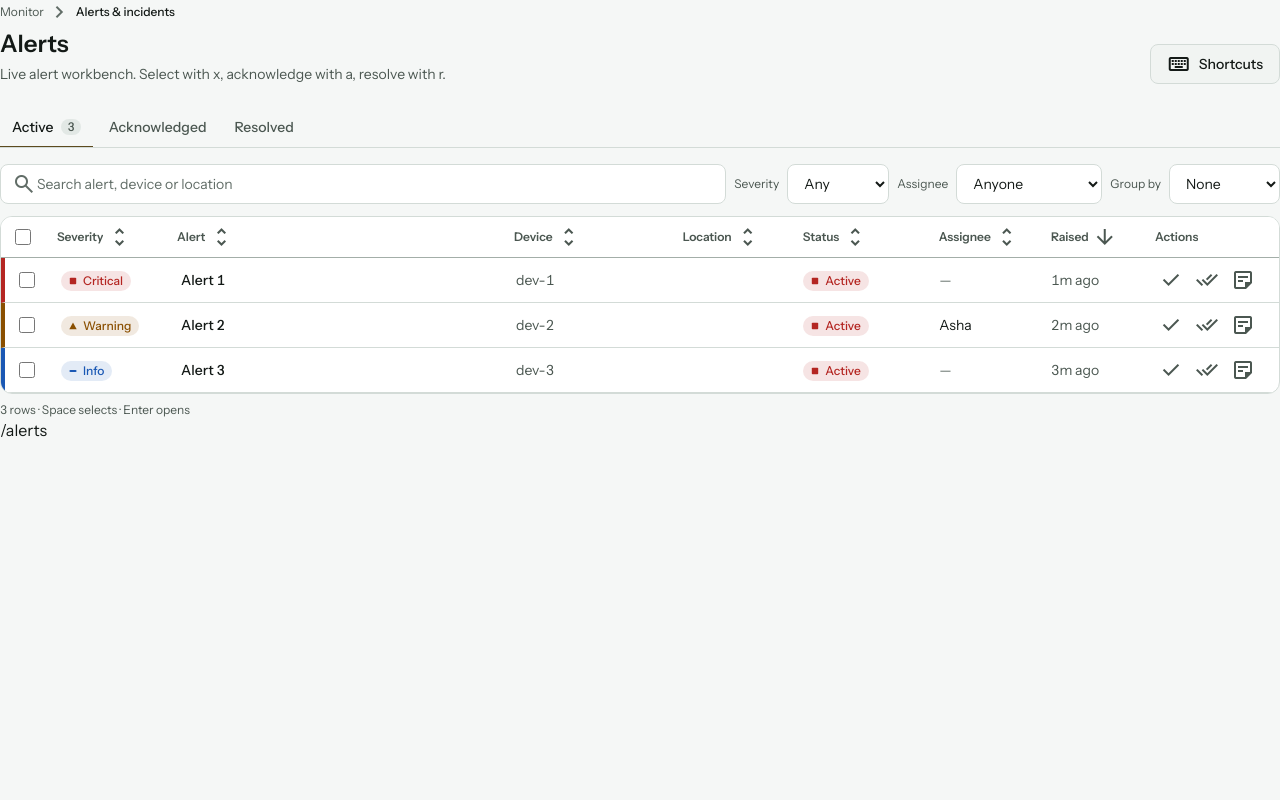
Scenario: Alerts workbench › opens notes with n and posts a note
expect the table named "Active alerts" is shown: met, box left=0, top=216, right=1279, bottom=394
Press j
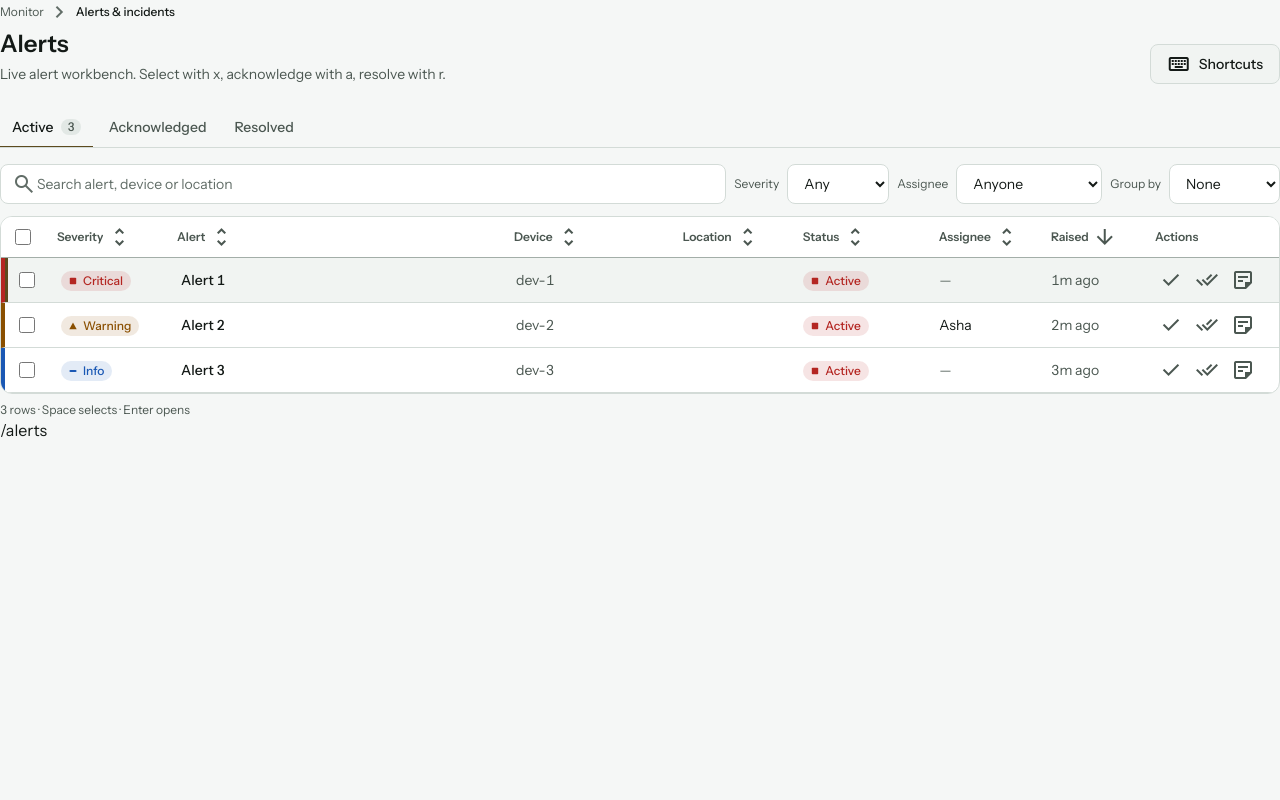
Press n
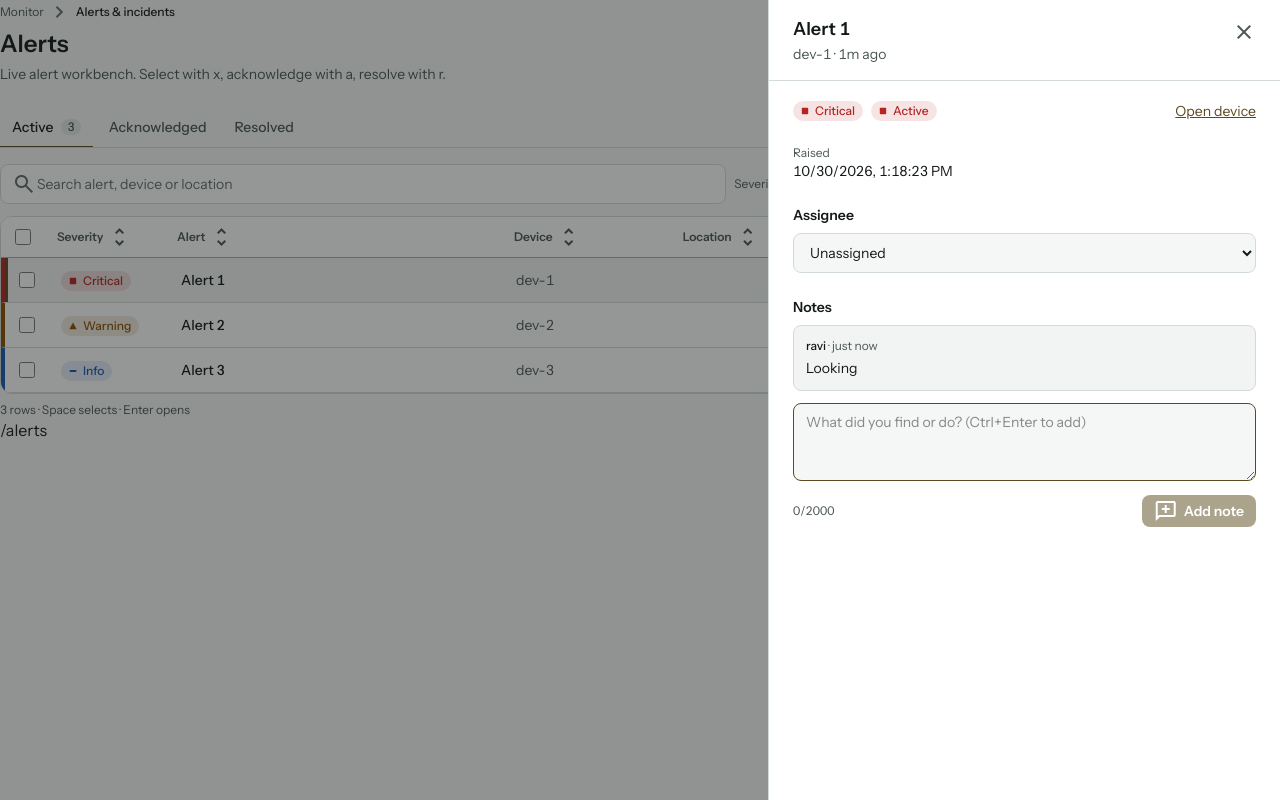
expect the text "Looking" is shown: met, box left=806, top=359, right=858, bottom=377
Type "Rebooted" into the text box named "Add a note" at coordinates (1024, 442), box left=793, top=403, right=1256, bottom=481
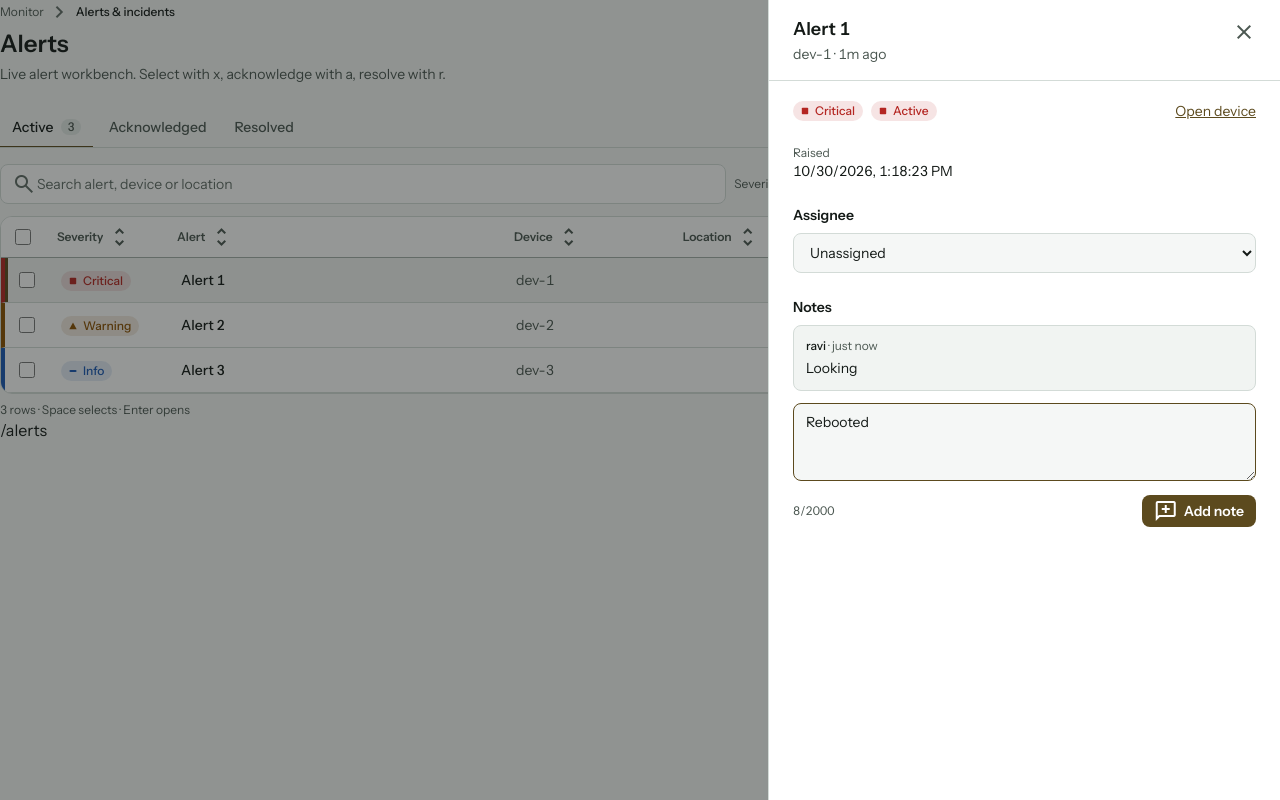
Click the button "Add note" at coordinates (1199, 511), box left=1142, top=495, right=1256, bottom=527
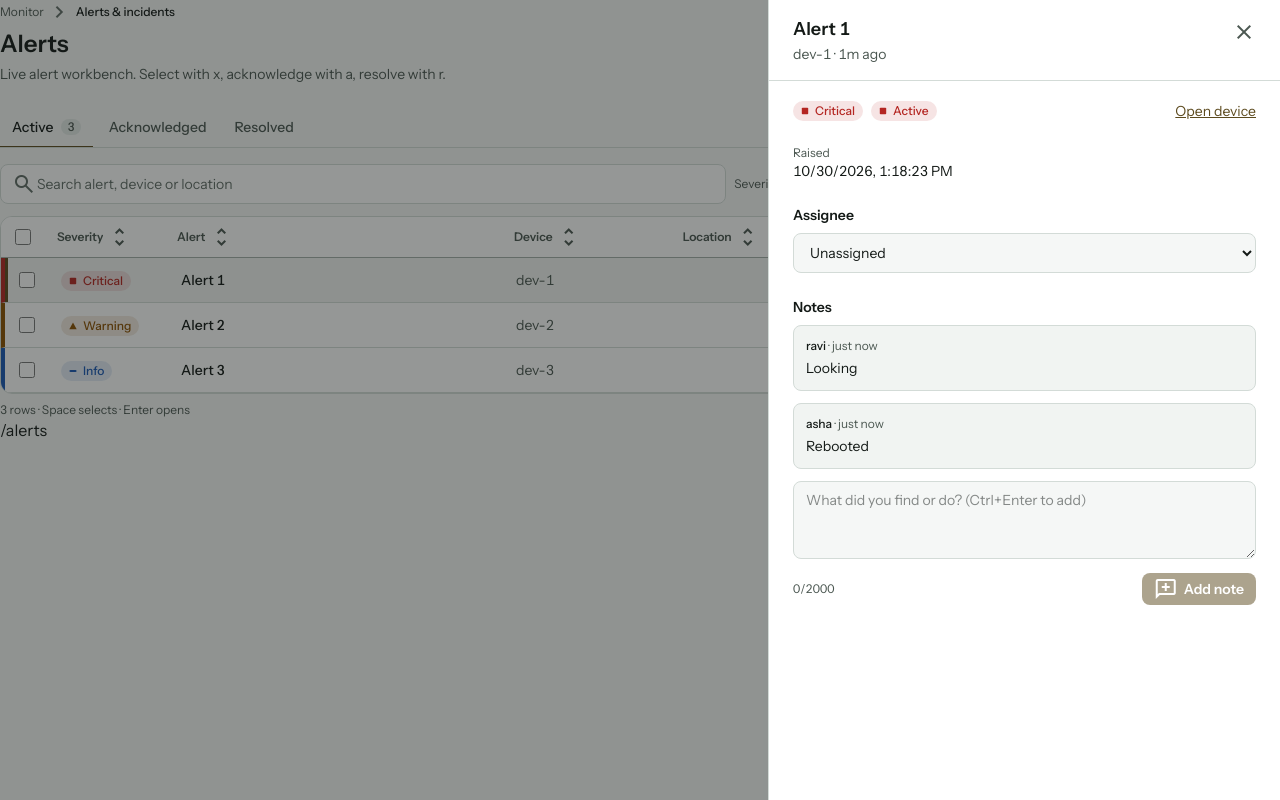
expect the text "Rebooted" is shown: met, box left=806, top=437, right=869, bottom=455
